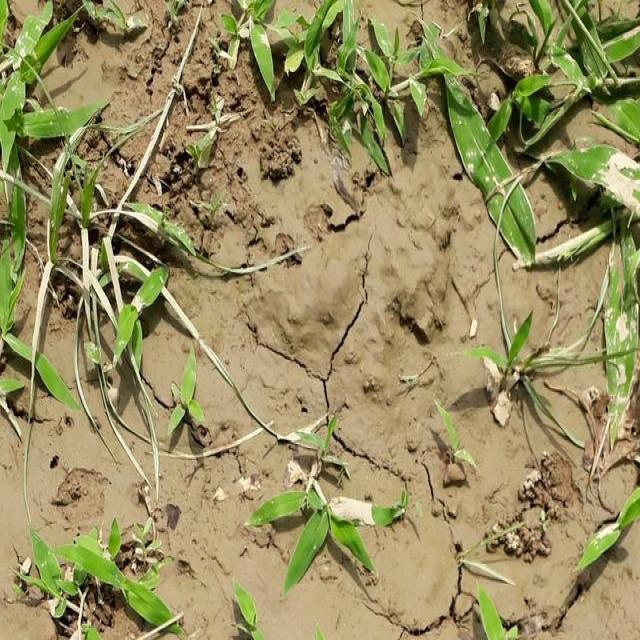weed: (222, 1, 640, 165), (1, 9, 98, 379), (249, 459, 401, 581), (29, 521, 181, 640), (478, 320, 627, 429), (101, 202, 180, 395), (567, 152, 640, 358), (465, 156, 542, 258), (586, 492, 640, 568), (167, 351, 207, 446), (430, 403, 480, 478), (182, 114, 220, 186), (298, 410, 344, 464), (477, 587, 518, 640), (104, 0, 147, 44), (234, 583, 262, 640)
